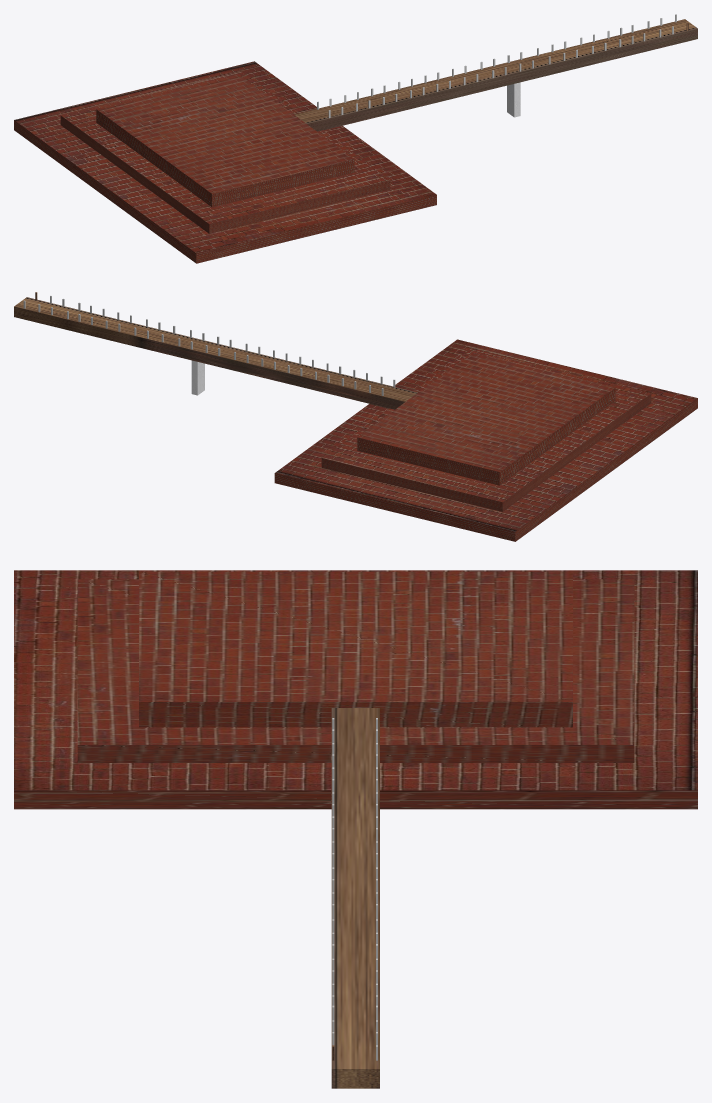
Rendered from stairs.obj.
The picture shows the model from 3 angles, top to bottom: view 1: azimuth 30°, elevation 25°; view 2: azimuth 150°, elevation 25°; view 3: azimuth 270°, elevation 25°; orthographic projection. The views are drawn at different scales.
Visible parts, largest first — view 1: Cube.043, Cube.042_Cube.045, Cube.002_Cube.044, Cube.044_Cube.046, Cube; view 2: Cube.043, Cube.042_Cube.045, Cube.002_Cube.044, Cube.044_Cube.046, Cube; view 3: Cube.043, Cube.042_Cube.045, Cube.002_Cube.044, Cube.044_Cube.046.
Part boxes in pixels (x1,y1,x2,y2): Cube.043: (96, 74, 354, 207); Cube.042_Cube.045: (14, 61, 436, 263); Cube.002_Cube.044: (60, 71, 390, 233); Cube.044_Cube.046: (294, 19, 697, 131); Cube: (507, 82, 520, 117); Cube.043: (357, 352, 615, 485); Cube.042_Cube.045: (274, 339, 697, 541); Cube.002_Cube.044: (321, 349, 651, 511); Cube.044_Cube.046: (14, 297, 417, 409); Cube: (191, 360, 204, 395); Cube.043: (139, 571, 572, 727); Cube.042_Cube.045: (14, 570, 697, 809); Cube.002_Cube.044: (77, 579, 634, 762); Cube.044_Cube.046: (331, 708, 379, 1088).
Size of the model in its own units: 52.47 by 4.65 by 28.29.
Materials: 7 (6 with a texture image).
